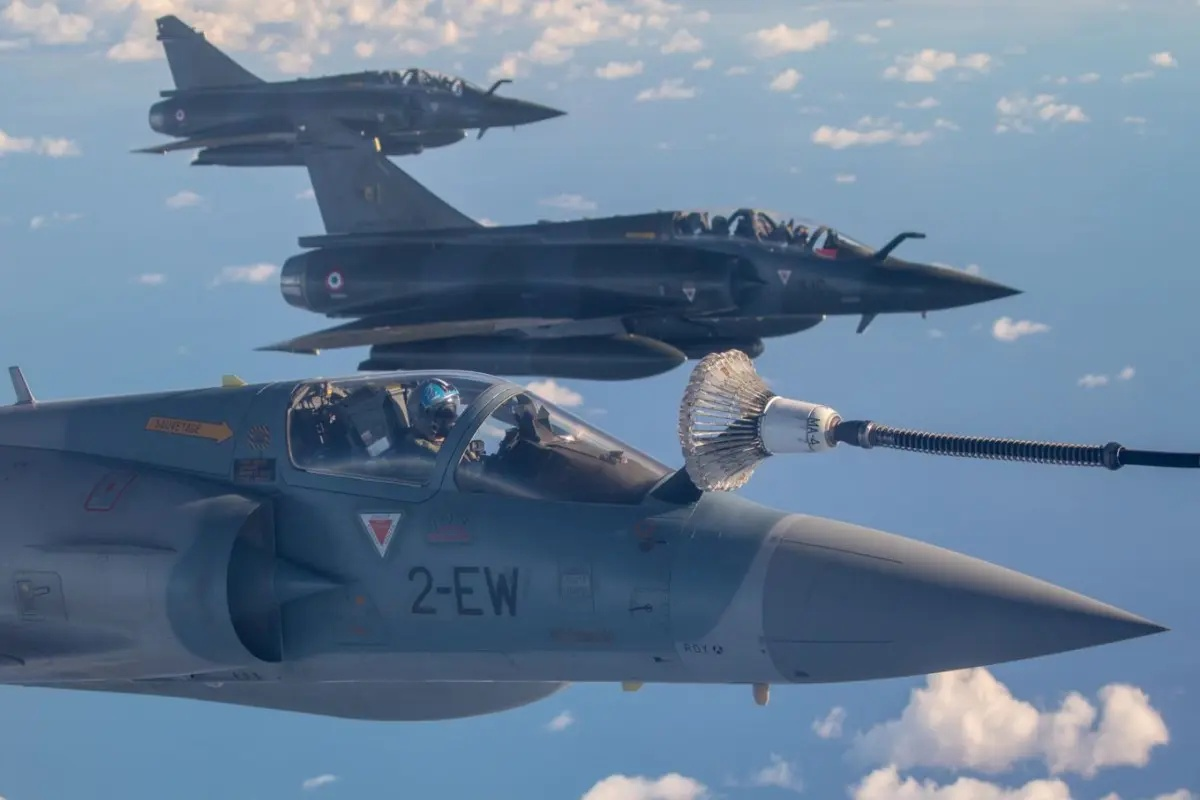Mirage2000: (1, 364, 1173, 722), (250, 114, 1027, 382), (128, 14, 569, 168)
